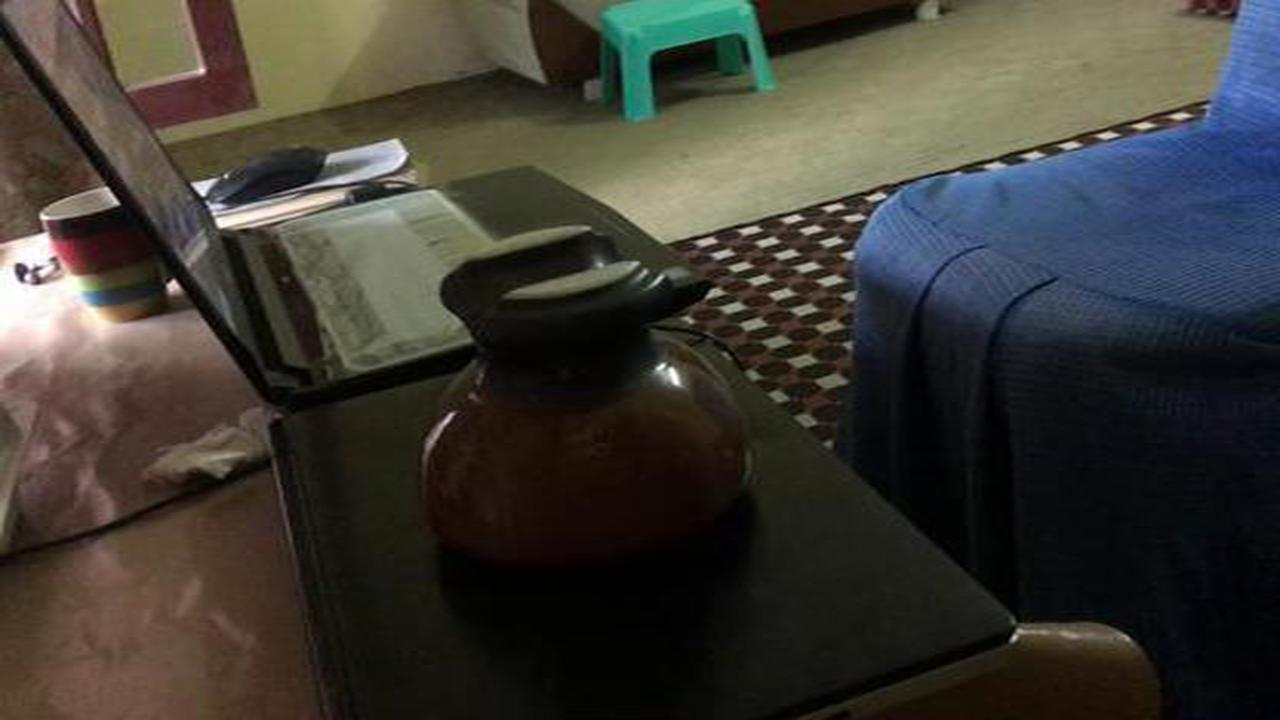insulator_pin: (410, 213, 776, 592)
